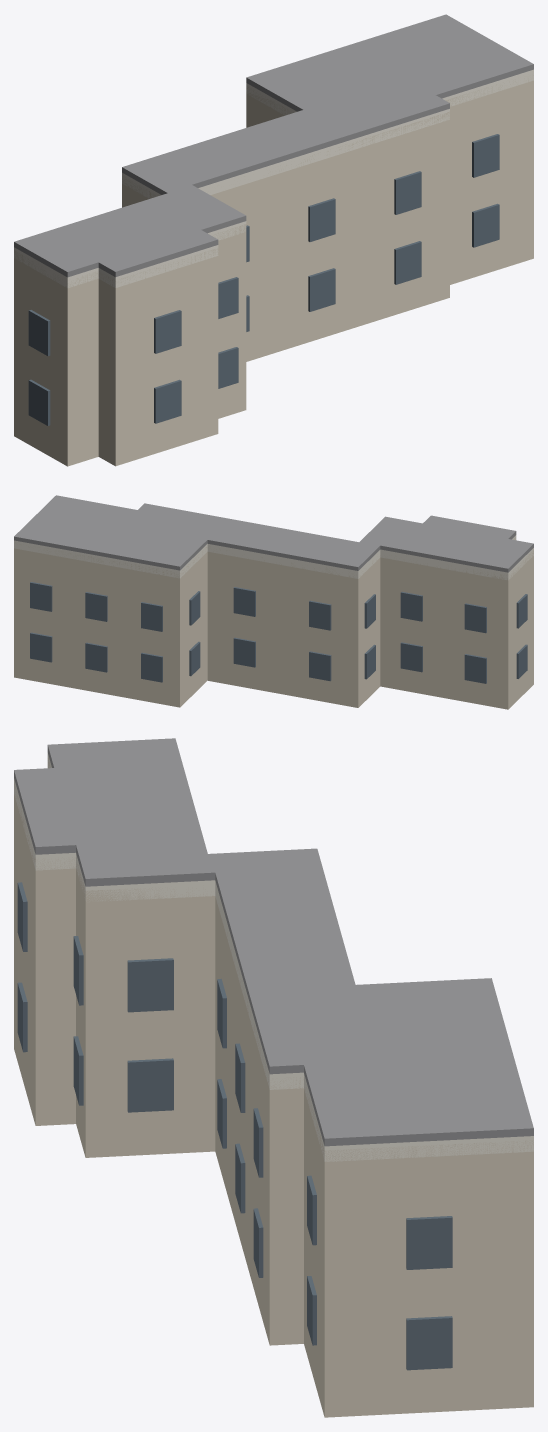
File: s02_gis_248022_820728.glb
The picture shows the model from 3 angles, top to bottom: view 1: azimuth 30°, elevation 25°; view 2: azimuth 150°, elevation 25°; view 3: azimuth 270°, elevation 25°; orthographic projection. The views are drawn at different scales.
Visible parts, largest first — view 1: mass, roofcap, cornice, win_3_0_0, win_13_0_0, win_1_1_2, win_1_0_2, win_1_1_1, win_1_0_1, win_3_1_0, win_13_1_0, win_10_0_0 (+3 smaller); view 2: mass, roofcap, cornice, win_7_0_0, win_5_0_1, win_5_1_1, win_7_0_1, win_5_0_0, win_7_1_0, win_7_1_1, win_9_0_1, win_5_1_0 (+11 smaller); view 3: mass, roofcap, cornice, win_0_0_0, win_0_1_0, win_4_0_0, win_4_1_0.
Boxes of the visible parts, x1,y1,x2,y2 form: mass: (14,75,533,466); roofcap: (14,14,533,277); cornice: (14,69,533,288); win_3_0_0: (472,203,499,247); win_13_0_0: (154,379,181,423); win_1_1_2: (394,171,421,214); win_1_0_2: (394,241,421,284); win_1_1_1: (308,198,335,241); win_1_0_1: (308,268,335,311); win_3_1_0: (472,134,499,177); win_13_1_0: (154,310,181,353); win_10_0_0: (28,379,50,425); mass: (14,538,533,709); roofcap: (14,495,533,572); cornice: (14,535,533,580); win_7_0_0: (233,637,255,667); win_5_0_1: (85,642,107,672); win_5_1_1: (85,592,107,621); win_7_0_1: (309,651,331,681); win_5_0_0: (30,632,52,662); win_7_1_0: (233,587,255,616); win_7_1_1: (309,600,331,630); win_9_0_1: (464,654,486,683); win_5_1_0: (30,582,52,611); mass: (14,758,533,1417); roofcap: (14,738,533,1146); cornice: (14,753,533,1161); win_0_0_0: (127,1058,173,1112); win_0_1_0: (127,958,173,1012); win_4_0_0: (406,1316,452,1370); win_4_1_0: (406,1216,452,1269).
Bounding box in the file's own units: 25.7 × 8.35 × 14.11.
